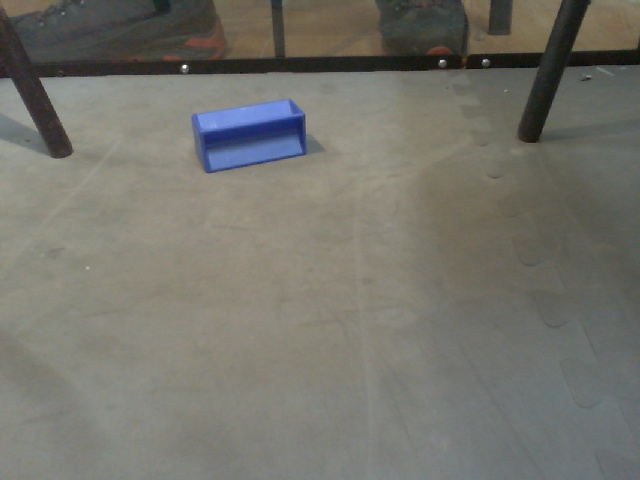BlueSample: (186, 97, 311, 175)
